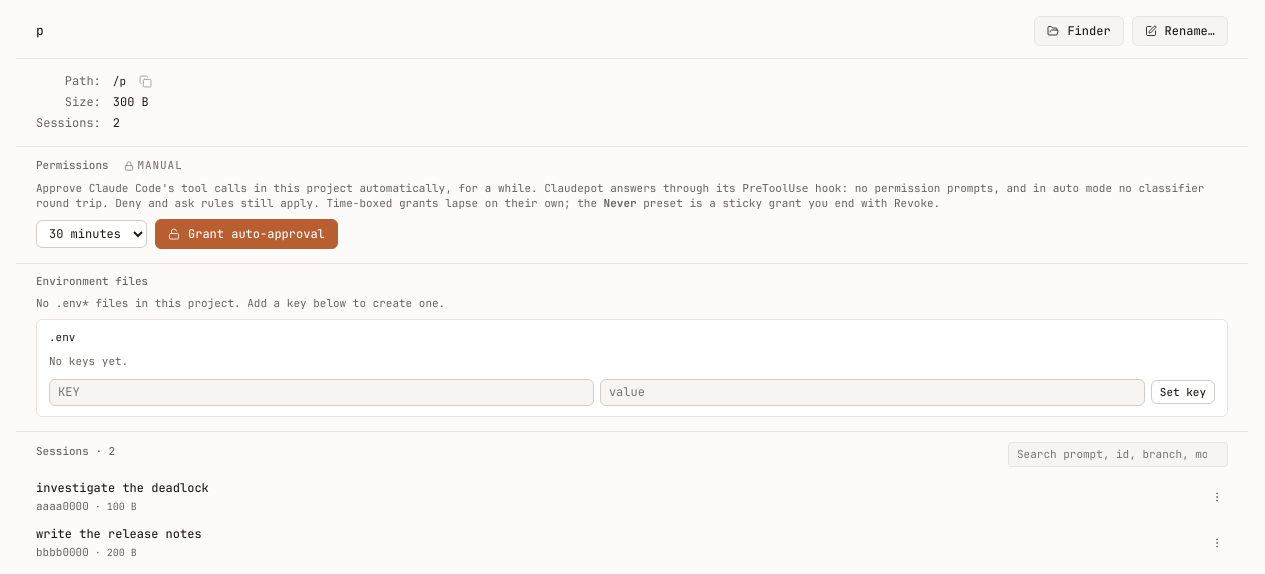
ProjectDetail › still filters by session-id prefix
The width and height of the screenshot is (1265, 574).
expect the heading "Sessions · 2" is shown: met, box [36,444,115,459]
expect the text "investigate the deadlock" is shown: met, box [36,481,209,497]
Step 1. Type "bbbb" into the search field named "search sessions" → (1118, 454), box [1008,442,1228,467]
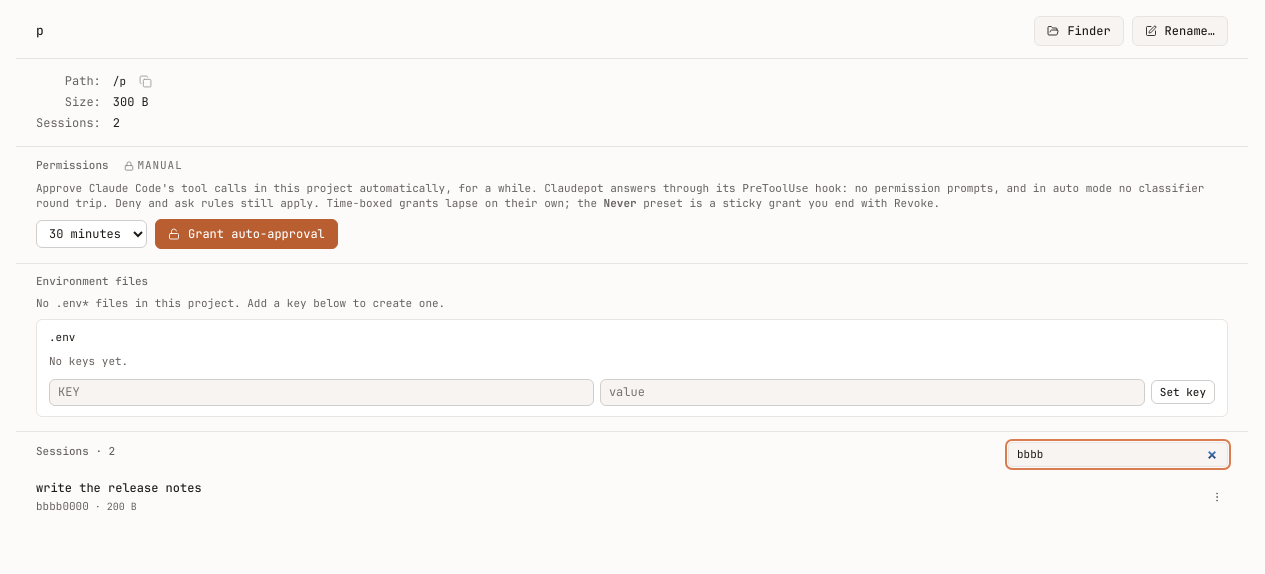
expect the text "write the release notes" is shown: met, box [36,481,202,497]
expect the option "investigate the deadlock" is gone: met
